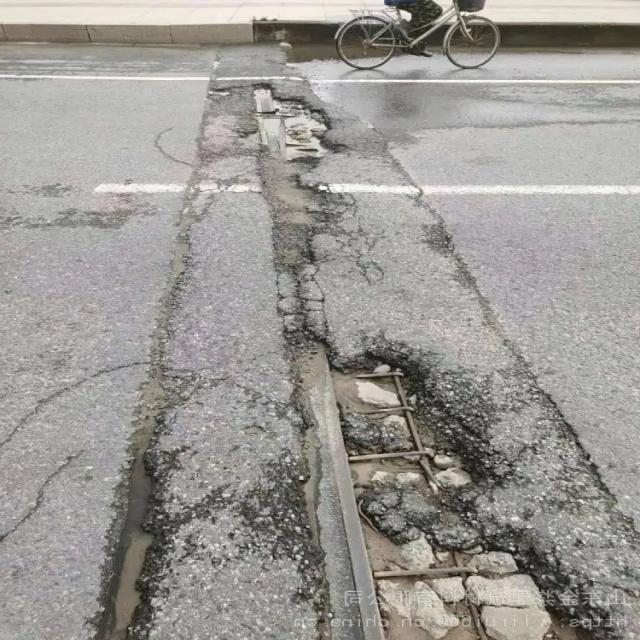pothole: (253, 321, 583, 640), (74, 208, 211, 640), (217, 86, 340, 310)
